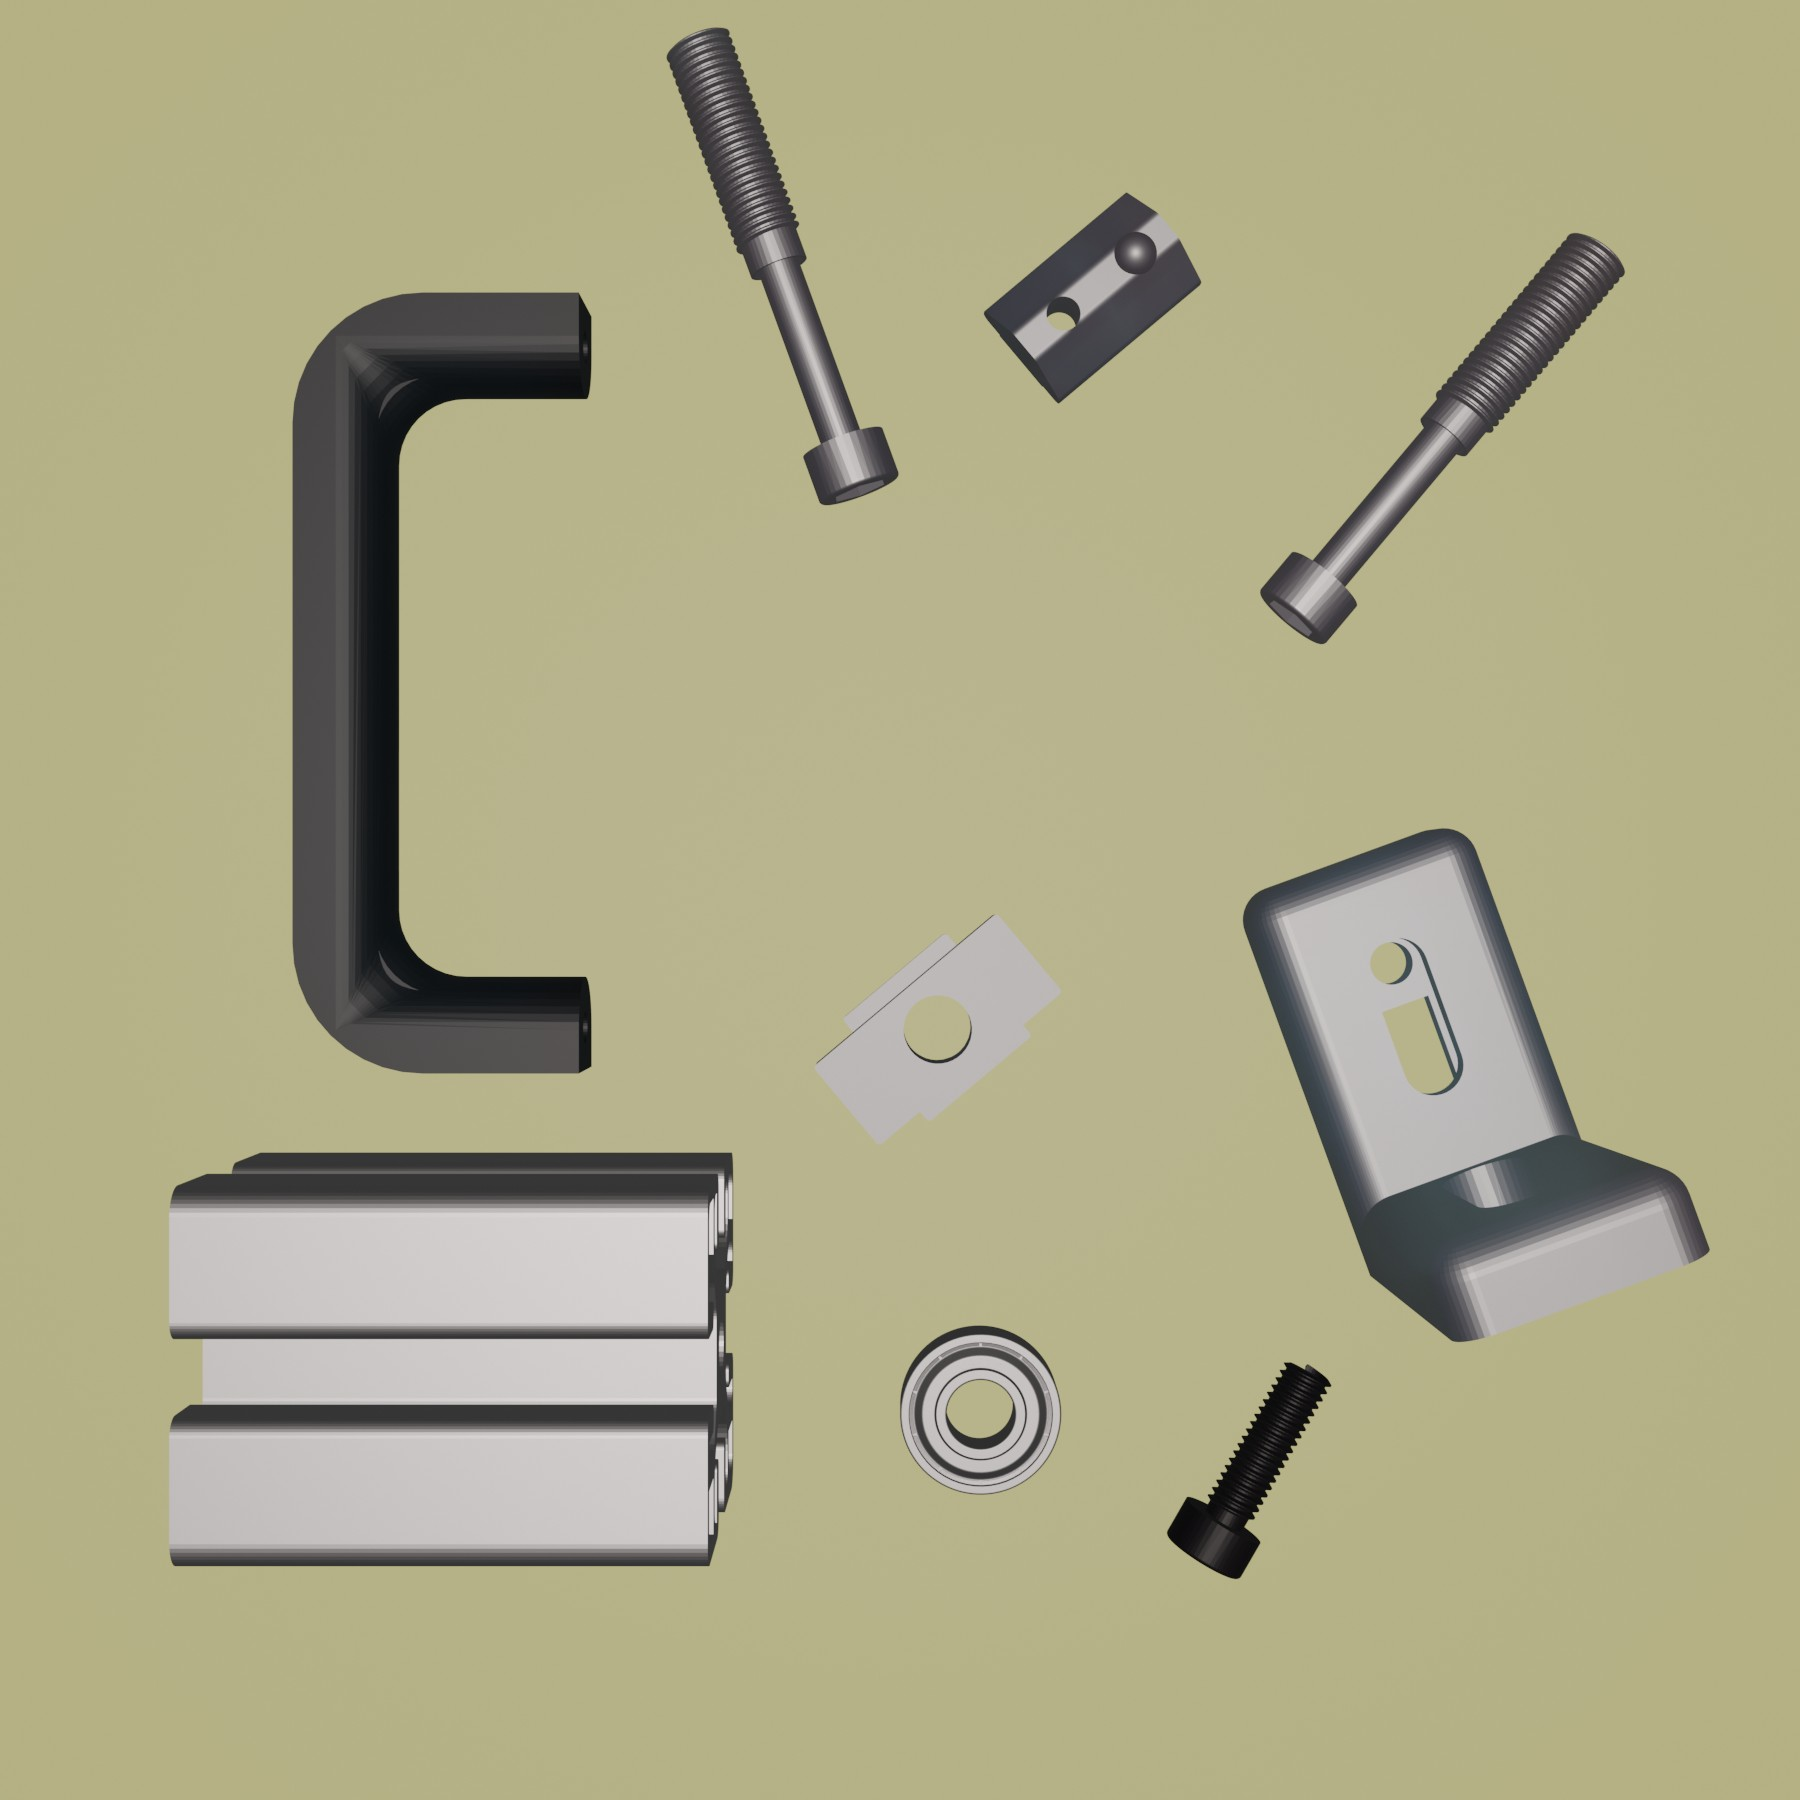Aluminium Extension: (162, 1146, 738, 1573)
Ball Bearing: (897, 1324, 1065, 1495)
Multiwinkel: (1241, 824, 1713, 1345)
Pull Handle: (284, 287, 597, 1080)
Shoulder Socket Head Cap Screw: (1256, 231, 1625, 648), (663, 25, 902, 508)
Socket Head Cap Screw: (1162, 1357, 1334, 1581)
T Nut Square: (806, 908, 1066, 1151)
T Spring Nut: (982, 190, 1203, 407)
